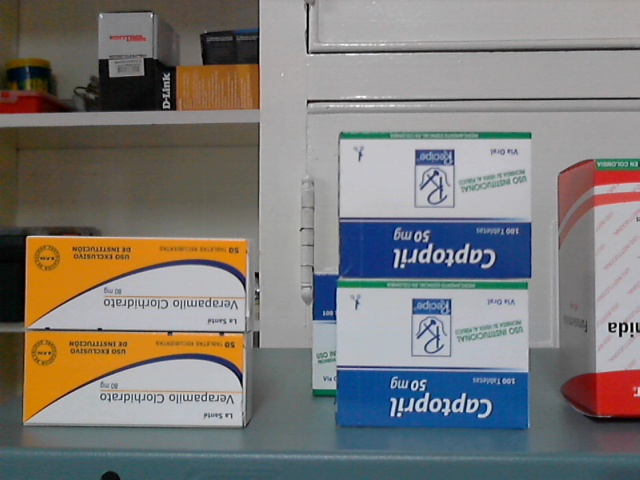LaSante: (28, 237, 248, 333), (27, 332, 241, 426)
